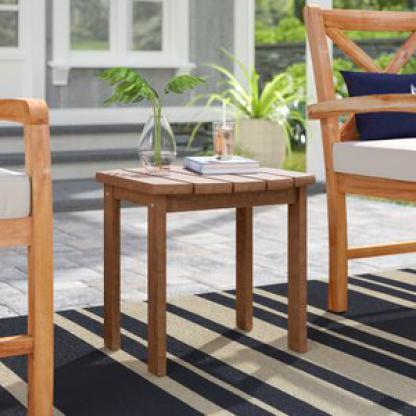table: (92, 158, 321, 382)
